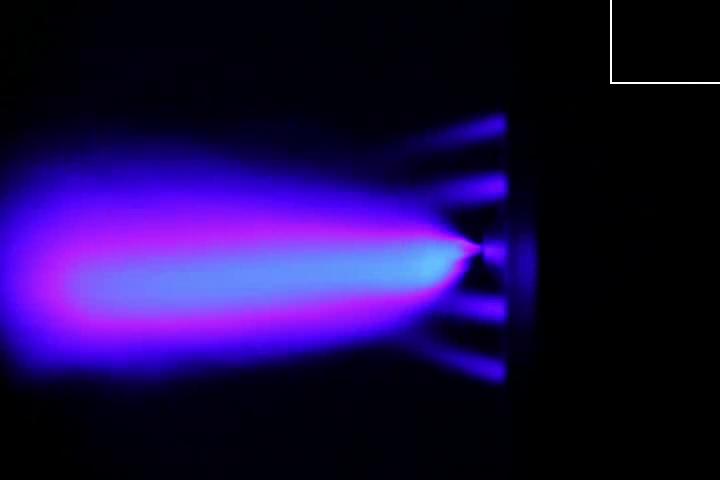burner cap: (479, 235, 516, 269)
pilot flame: (397, 337, 505, 387), (405, 170, 512, 211), (397, 114, 509, 152), (442, 290, 508, 331)
stable: (23, 192, 479, 333)
